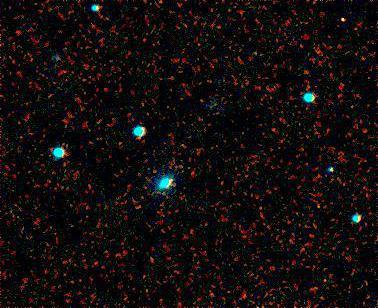star: (334, 4, 364, 34)
